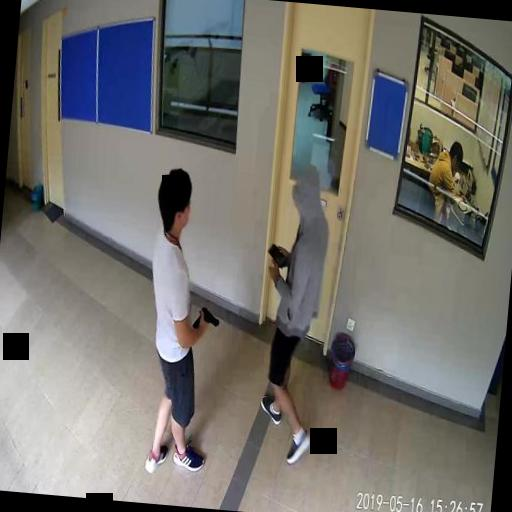Handgun: (190, 304, 220, 332)
